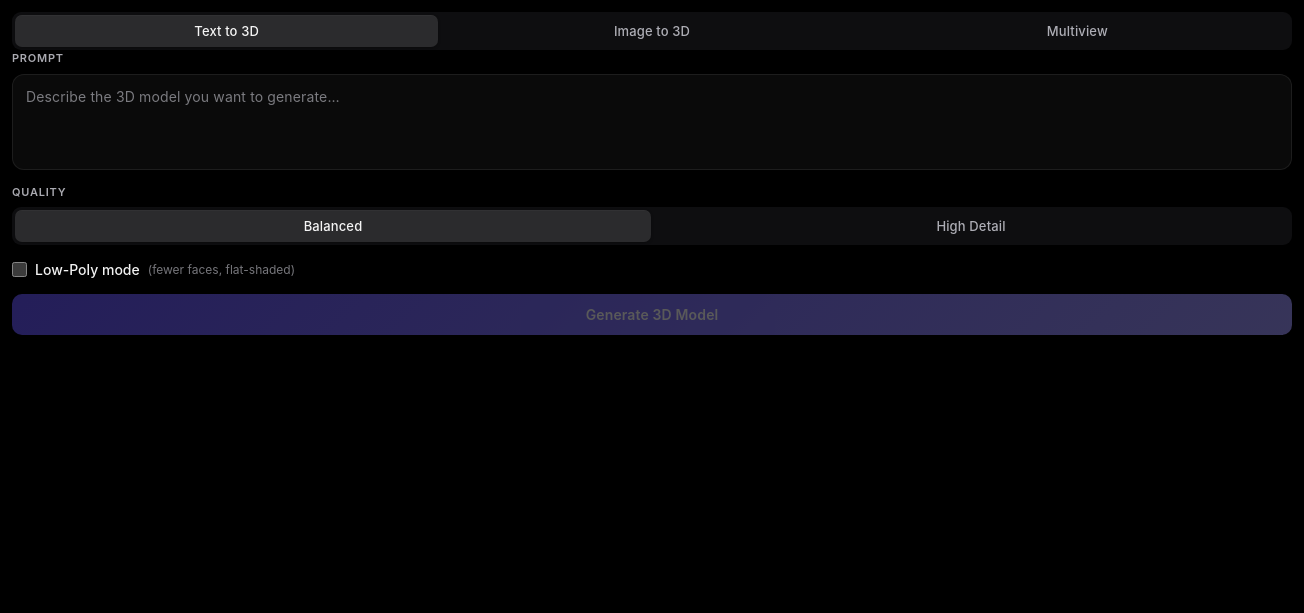
Test: GeneratorForm › multiview tab renders 4 dropzones and submit is disabled until all are filled
What coordinates should you click on to do the following:
click the tab "Multiview"
I would click on:
 (1077, 31)
Its box is left=866, top=15, right=1289, bottom=47.
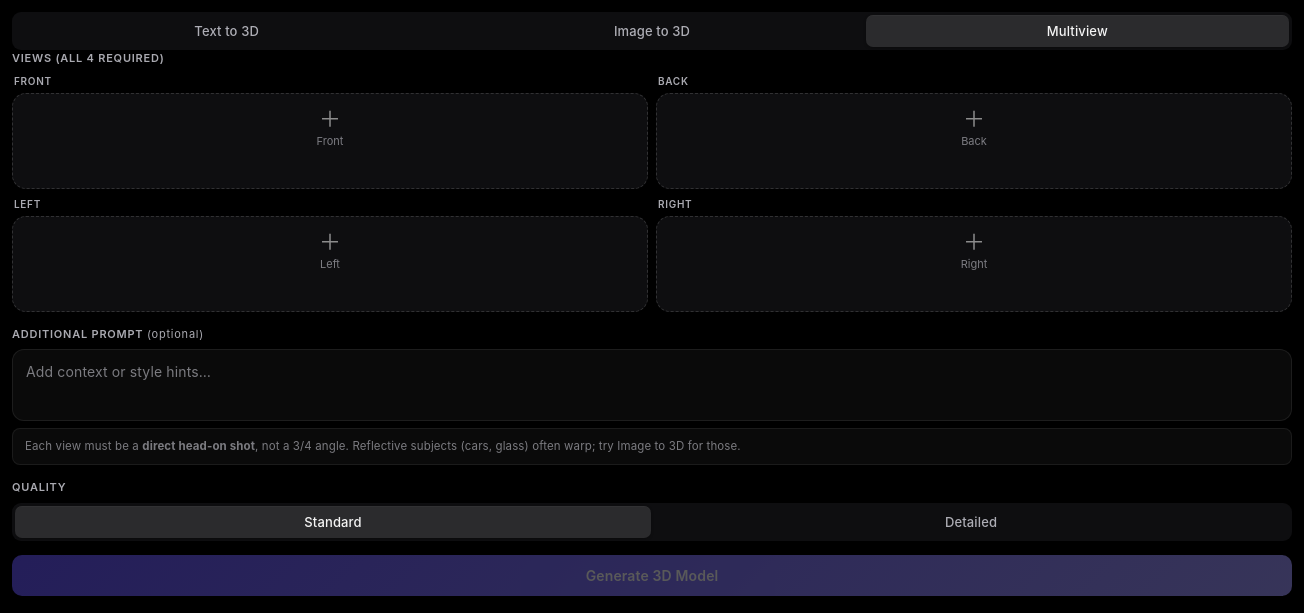
Expected: the button with aria-label "Upload Front image" is shown, left=12, top=92, right=648, bottom=188
Expected: the button with aria-label "Upload Back image" is shown, left=656, top=92, right=1292, bottom=188
Expected: the button with aria-label "Upload Left image" is shown, left=12, top=216, right=648, bottom=312
